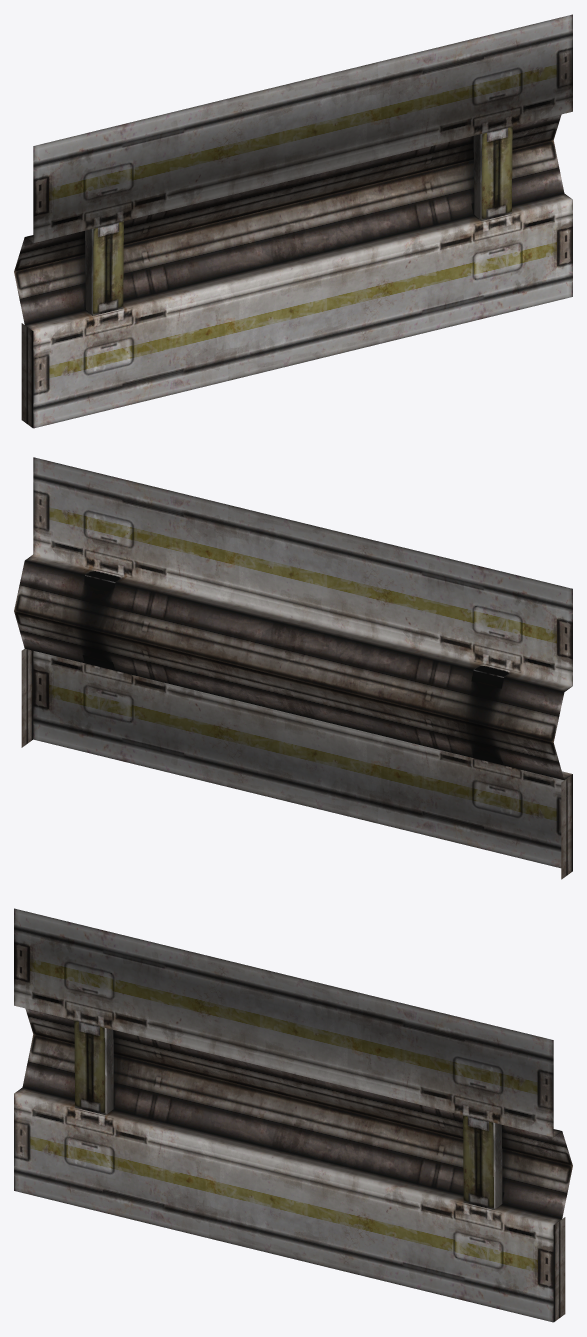
Rendered from theta_ground_top.dae.
The picture shows the model from 3 angles, top to bottom: view 1: azimuth 30°, elevation 25°; view 2: azimuth 150°, elevation 25°; view 3: azimuth 330°, elevation 25°; orthographic projection.
Parts seen in each view (by area): view 1: Mesh__2_; view 2: Mesh__2_; view 3: Mesh__2_.
Part boxes in pixels (x1=…): Mesh__2_: x1=14, y1=14, x2=572, y2=428; Mesh__2_: x1=14, y1=457, x2=572, y2=879; Mesh__2_: x1=14, y1=908, x2=572, y2=1322.
Bounding box in the file's own units: 4 × 2 × 0.2474.
